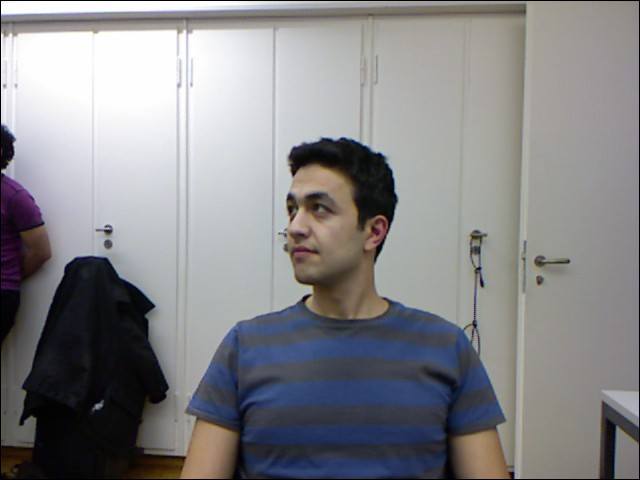deflection: (225, 152, 467, 480)
